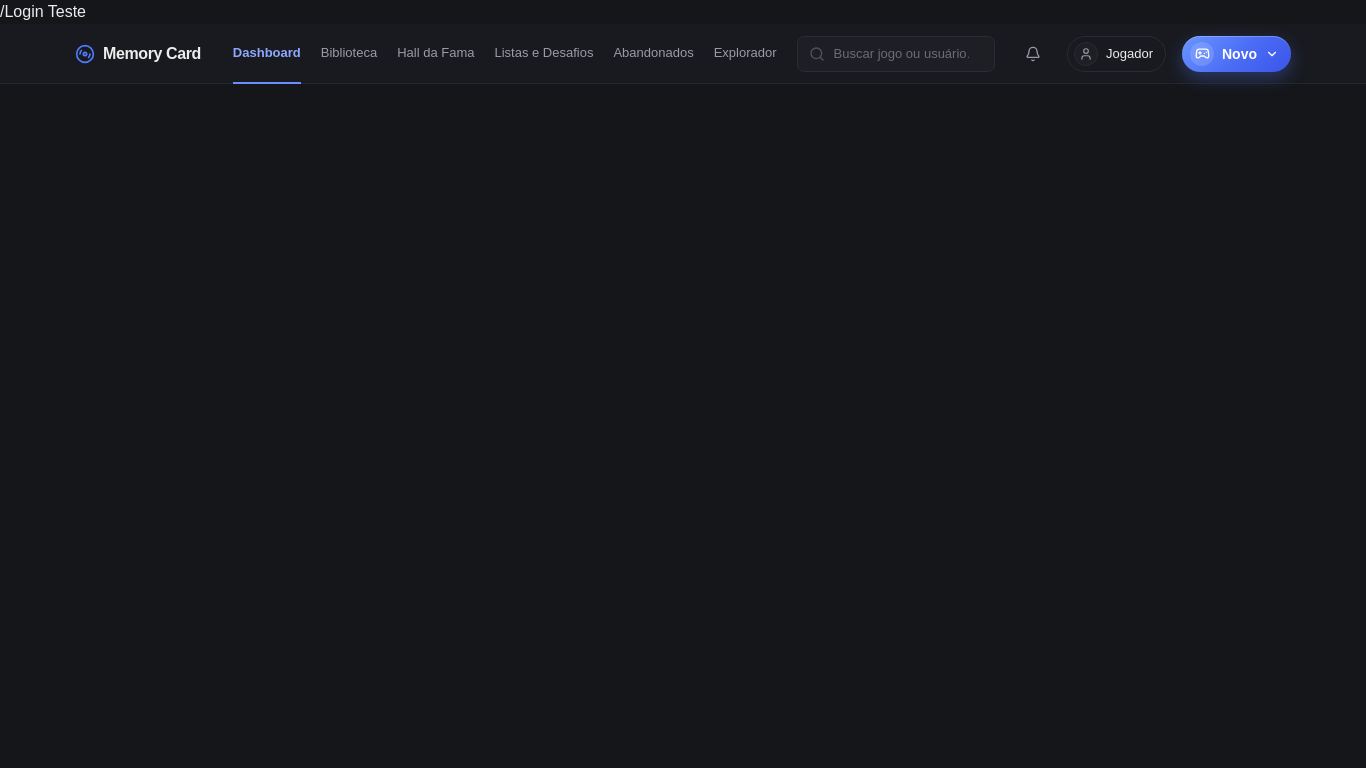
Topbar - Menu de usuário › abre o dialogo de iniciar jogo pelo menu Novo
Click the button "Novo" at (1236, 54), box [1182,36,1291,72]
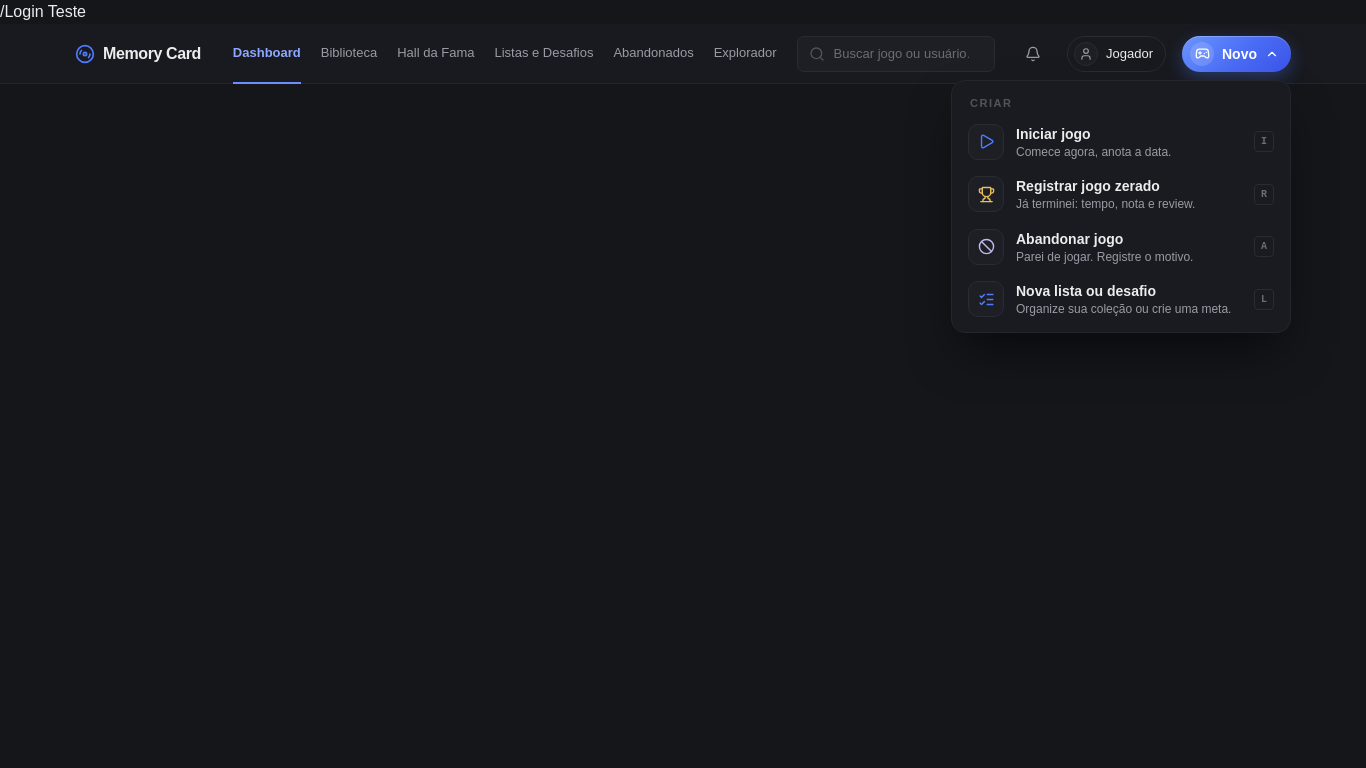
Click the menu item "Iniciar jogo Comece agora, anota a data. I" at (1121, 142), box [958,116,1284,168]
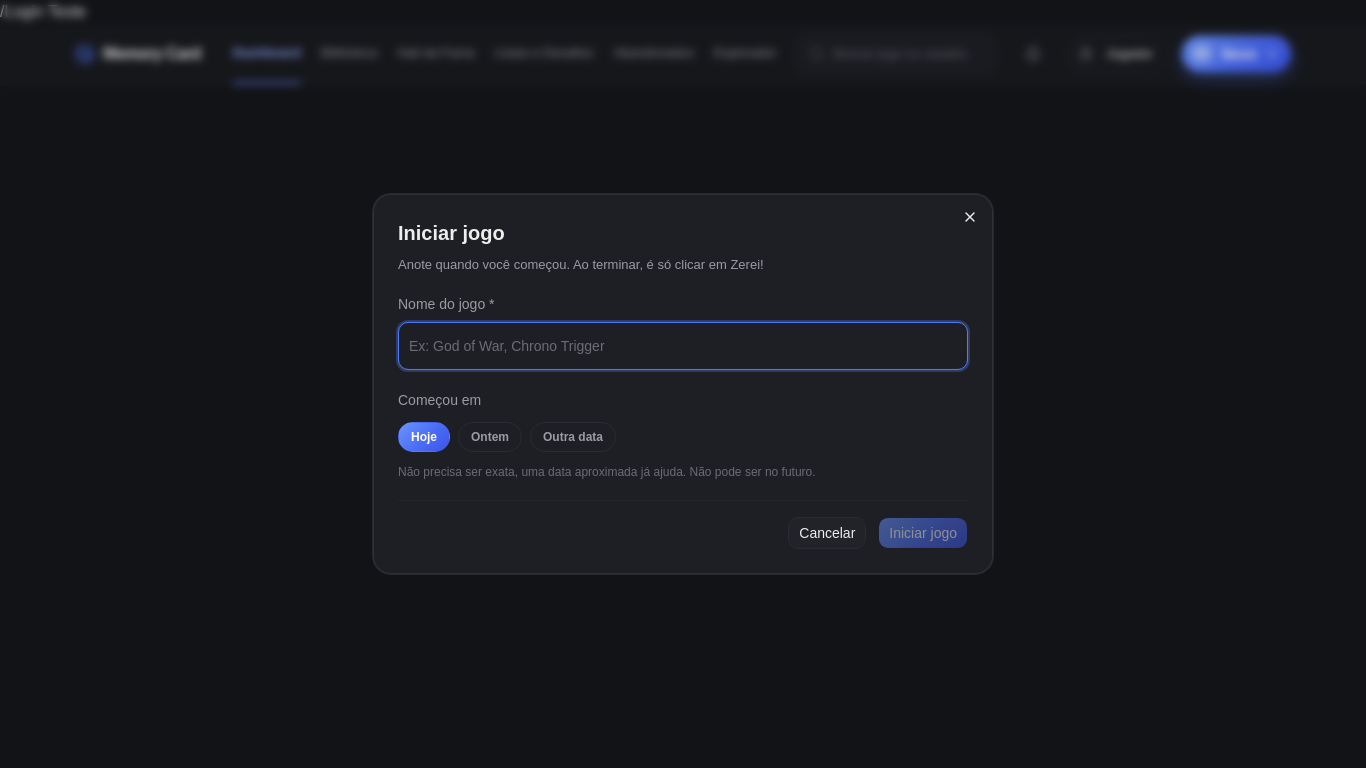
Now the heading "Iniciar jogo" is shown, box [398,222,505,244]
